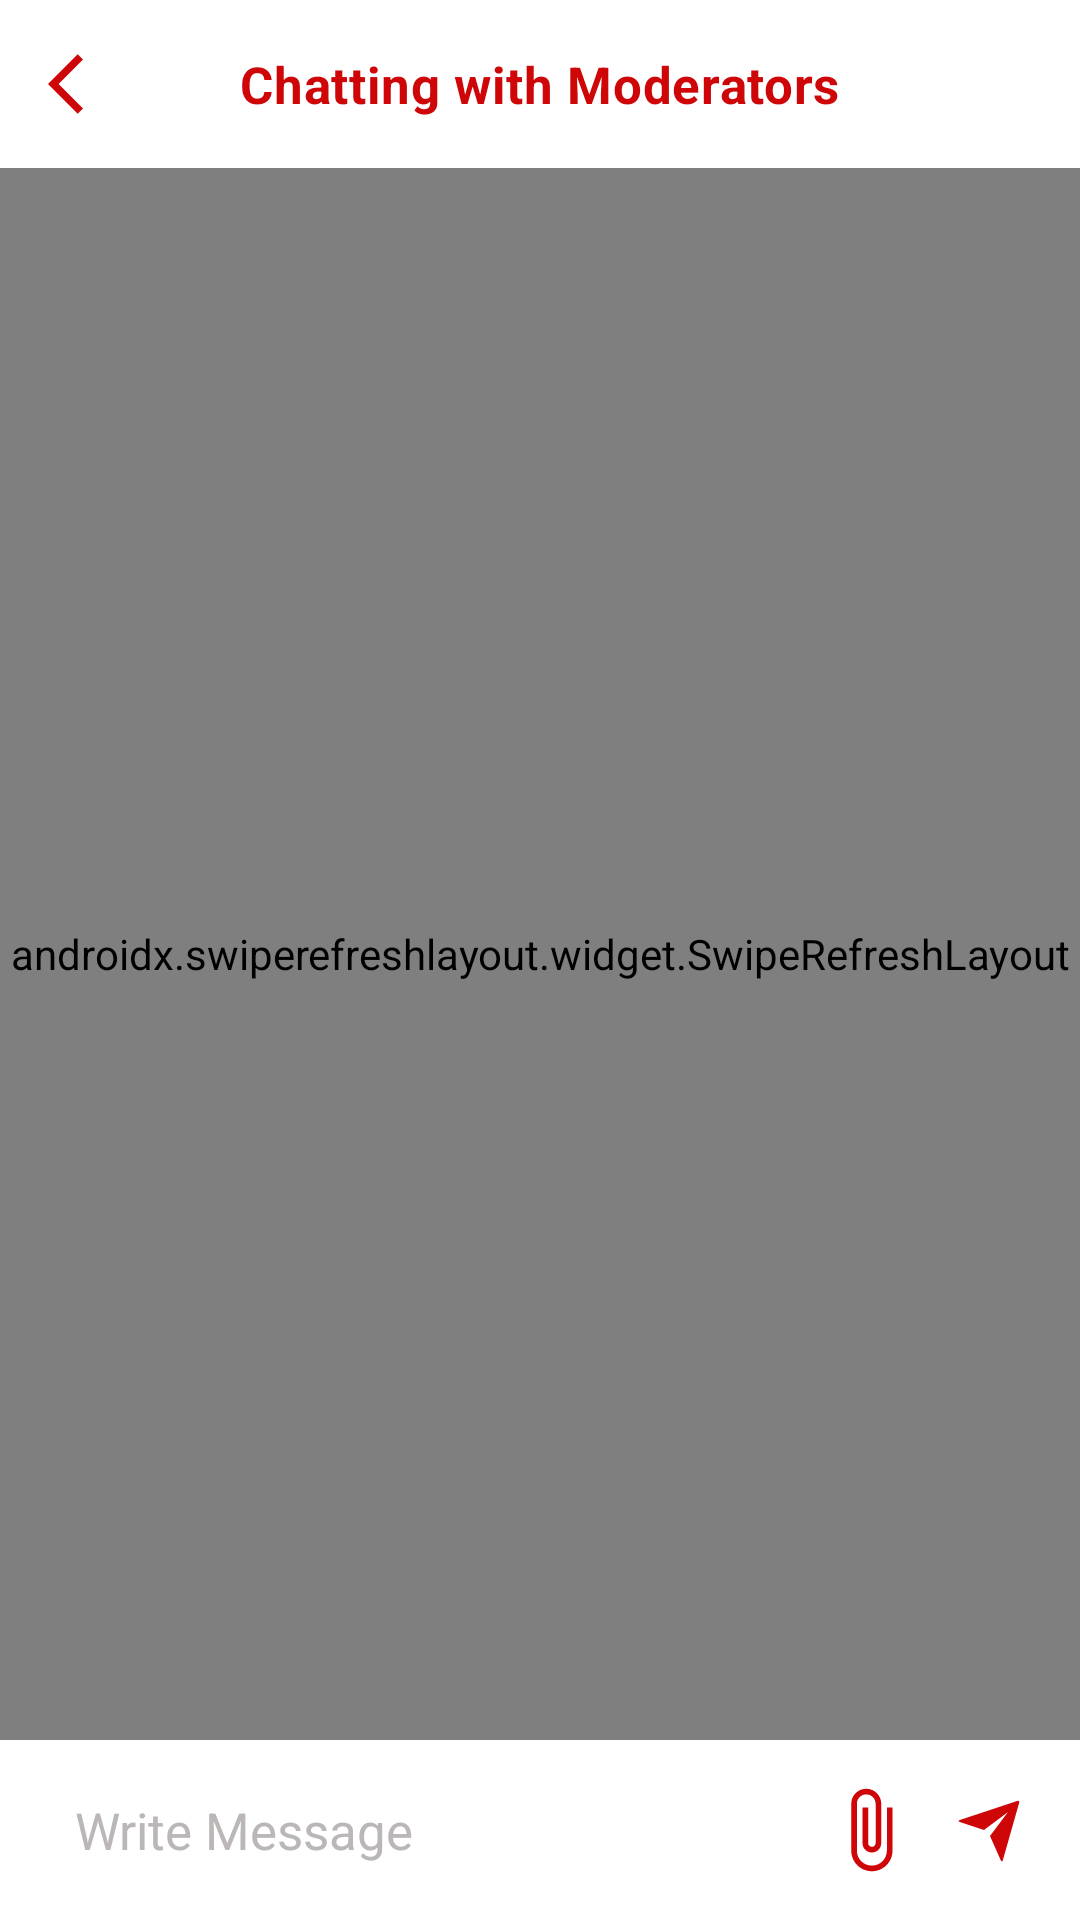

Icon click points for this 1080 x 1920 phone screenshot, format (x,y):
attach file: (872,1830)
back arrow: (65,84)
send: (989,1831)
